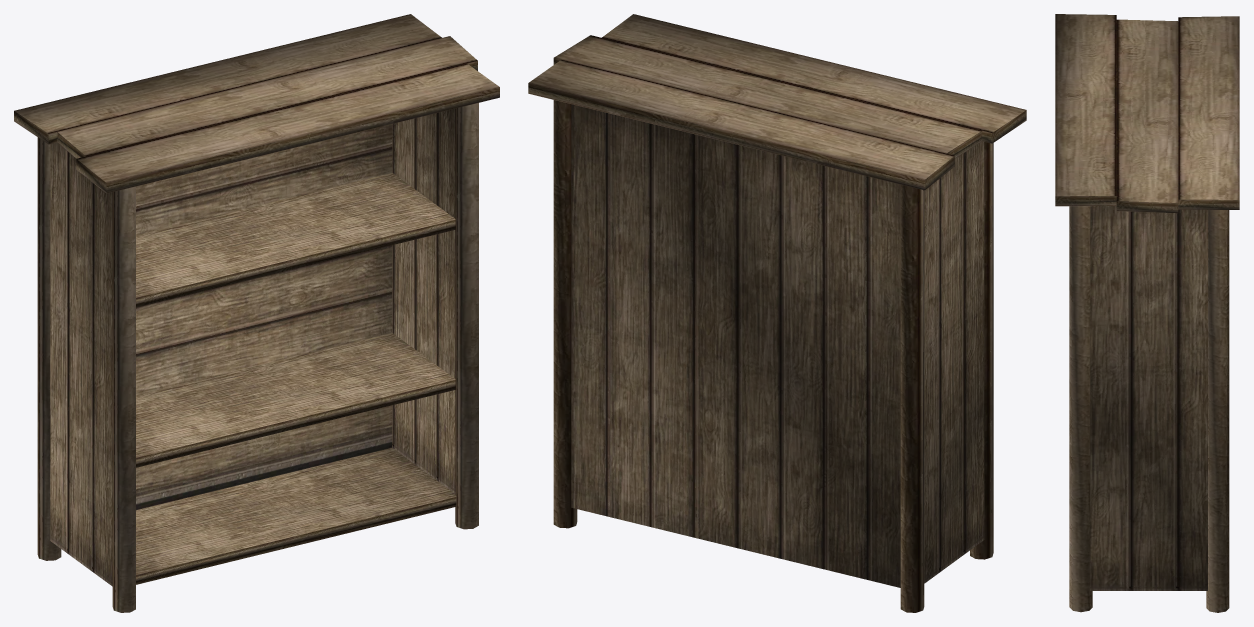
The model's file is GS_BOOKSHELF_OPEN_YELLOW_01_KOZA.glb.
The picture shows the model from 3 angles, left to right: view 1: azimuth 30°, elevation 25°; view 2: azimuth 150°, elevation 25°; view 3: azimuth 270°, elevation 25°; orthographic projection. The views are drawn at different scales.
Visible parts, largest first — view 1: Mesh; view 2: Mesh; view 3: Mesh.
Part boxes in pixels (x1=…): Mesh: x1=14, y1=14, x2=499, y2=612; Mesh: x1=528, y1=14, x2=1026, y2=612; Mesh: x1=1055, y1=14, x2=1239, y2=612.
Size of the model in its own units: 1.4 by 1.45 by 0.5777.
Materials: 2 (2 with a texture image).
